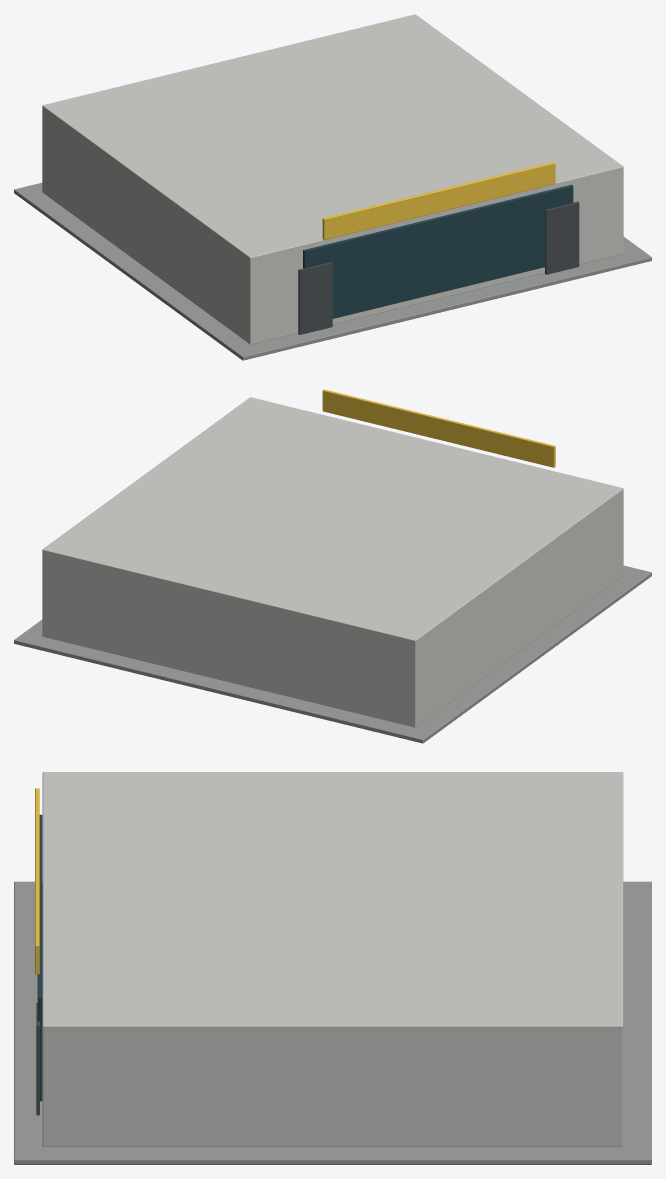
File: Building_Commercial_003.glb
3 renders of one model, top to bottom at view 1: azimuth 30°, elevation 25°; view 2: azimuth 150°, elevation 25°; view 3: azimuth 270°, elevation 25°, orthographic. The views are drawn at different scales.
Parts seen in each view (by area): view 1: Building_Commercial_003; view 2: Building_Commercial_003; view 3: Building_Commercial_003.
Boxes of the visible parts, x1,y1,x2,y2 form: Building_Commercial_003: (14,14,651,360); Building_Commercial_003: (14,389,651,743); Building_Commercial_003: (14,772,651,1164).
Size of the model in its own units: 17.17 by 4.59 by 16.64.
